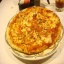pizza: (7, 6, 60, 53)
